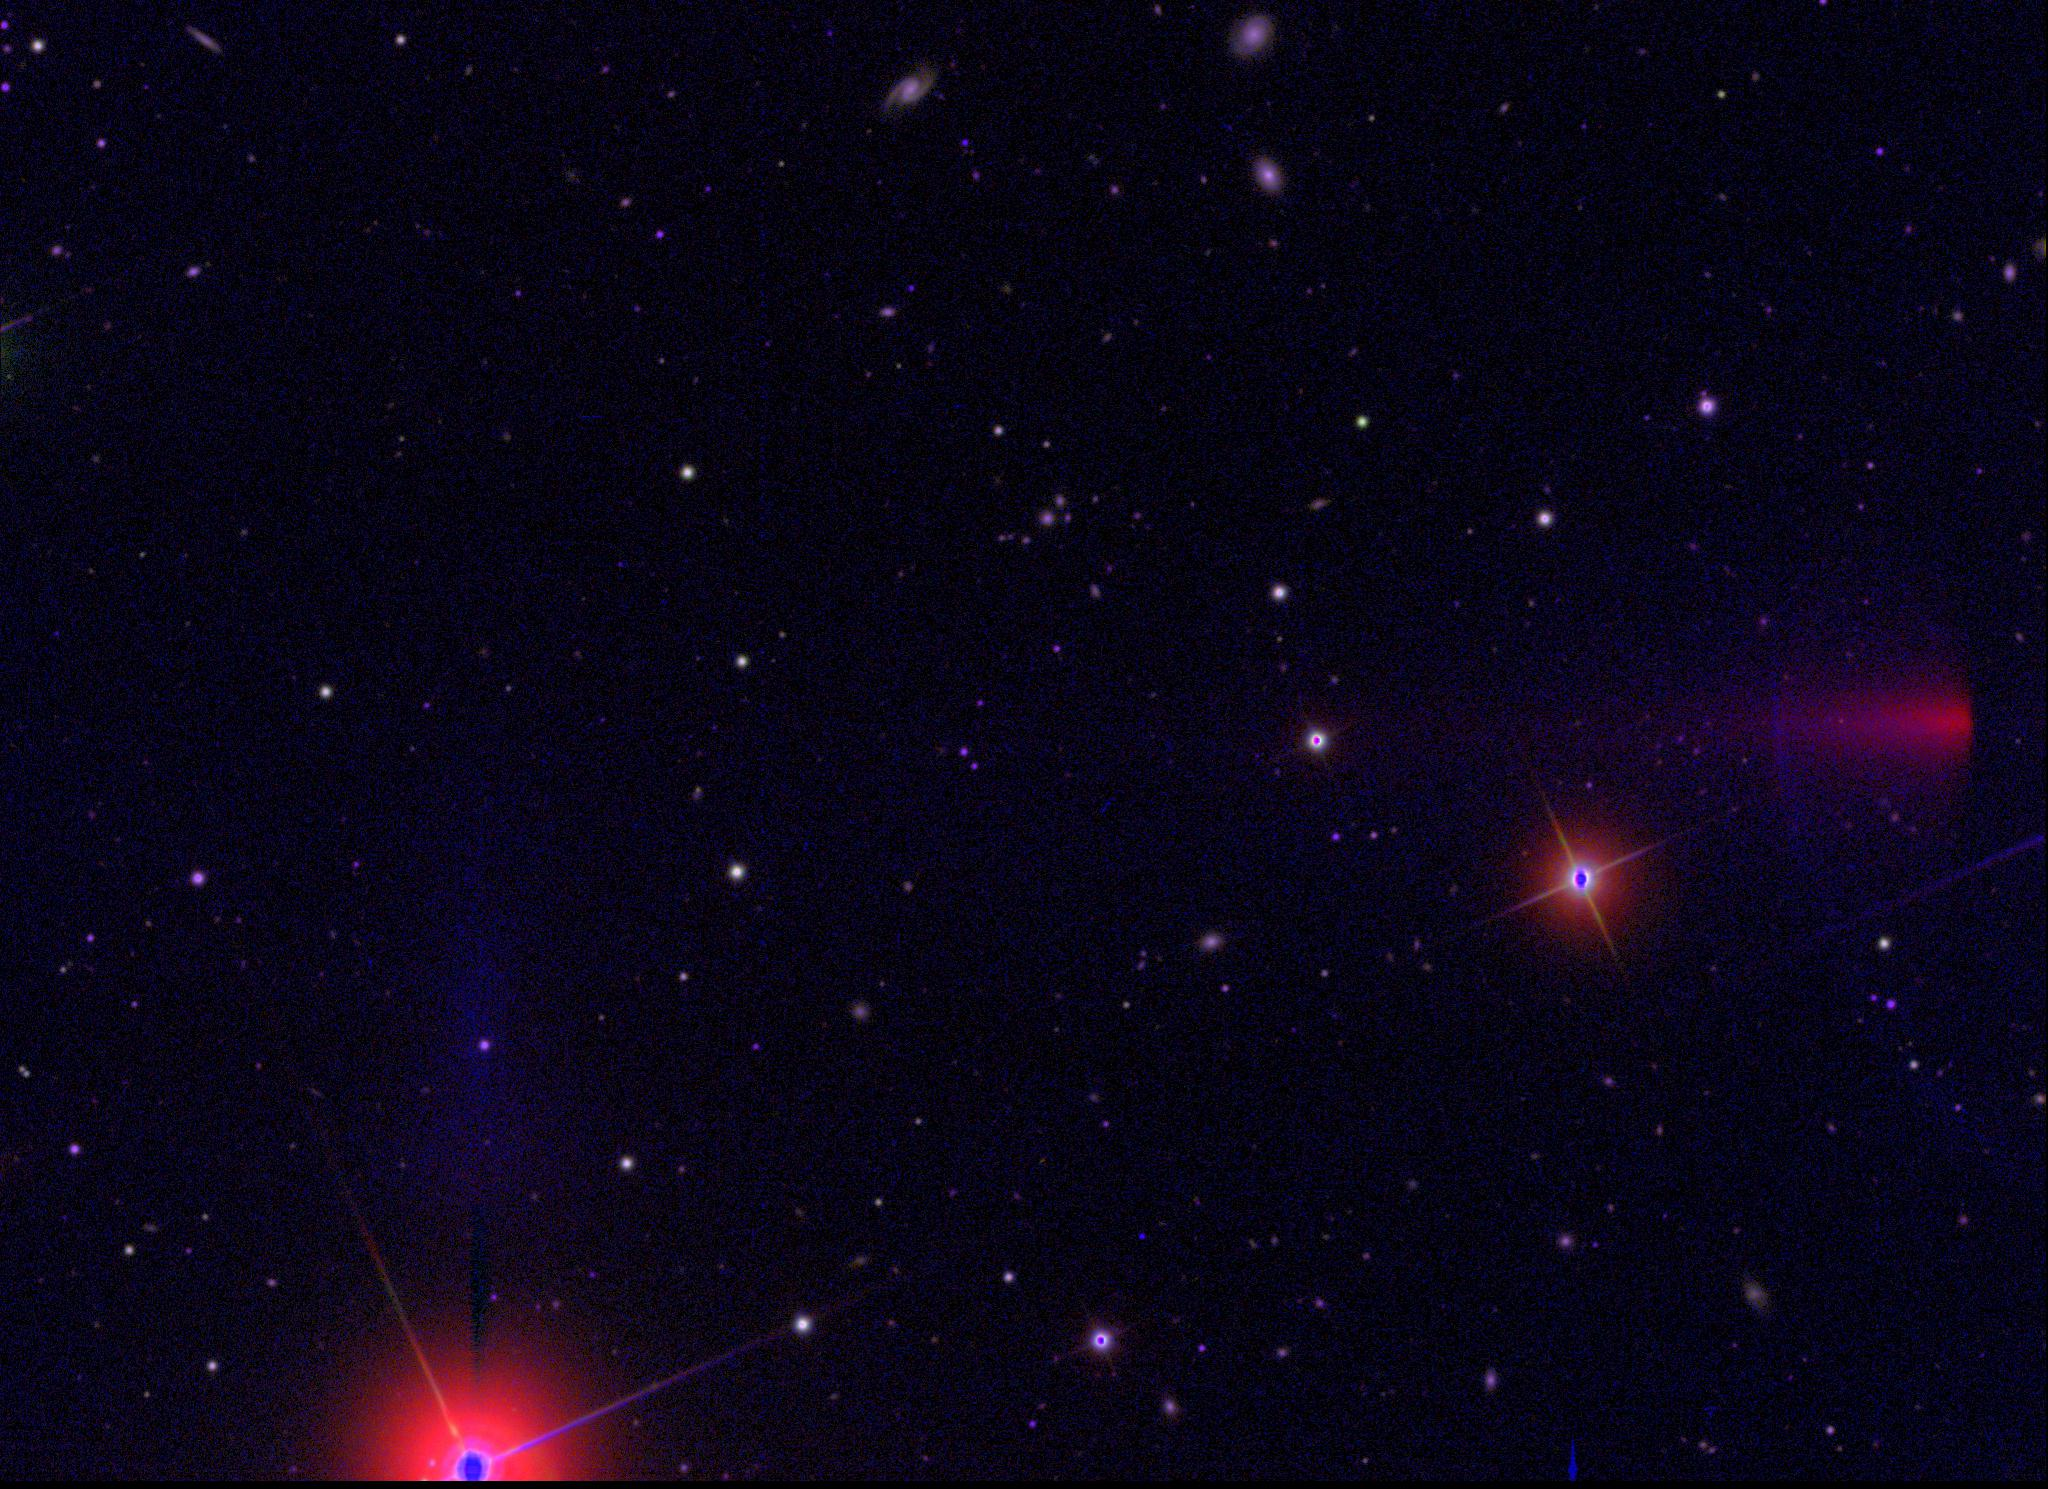L: (1134, 1228, 1148, 1242)
